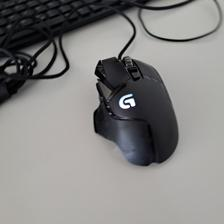mouse: (90, 54, 180, 167)
